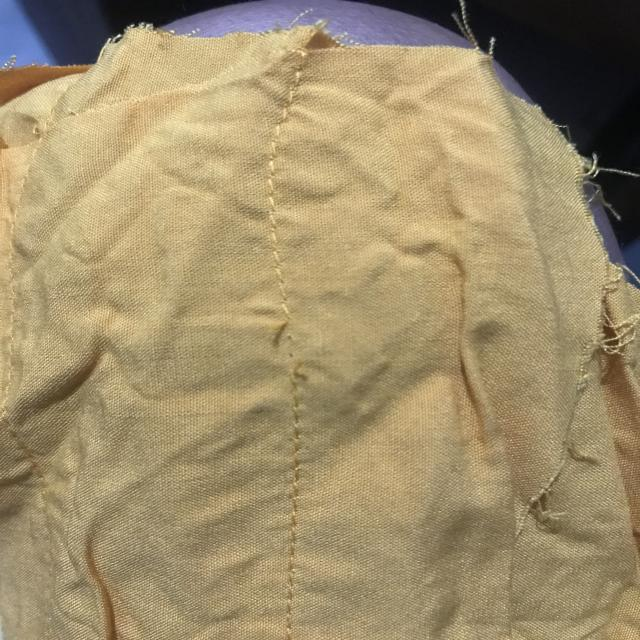broken: (246, 299, 323, 395)
good: (250, 190, 301, 282), (282, 453, 317, 564)
